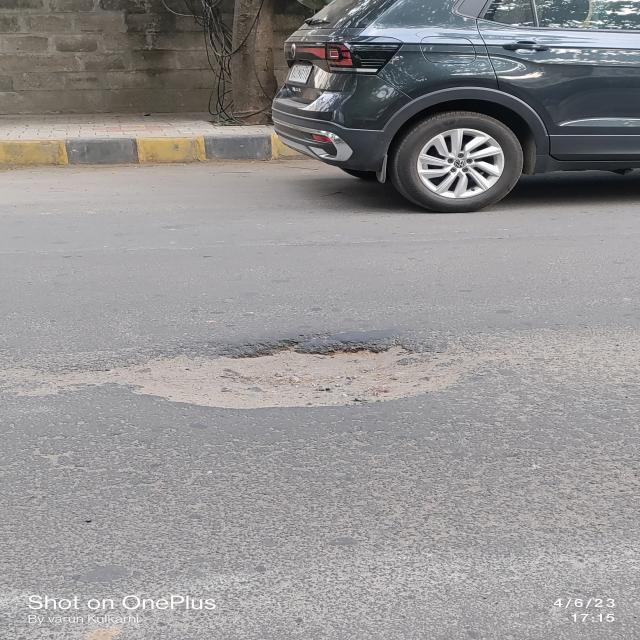potholes: (100, 346, 500, 420)
